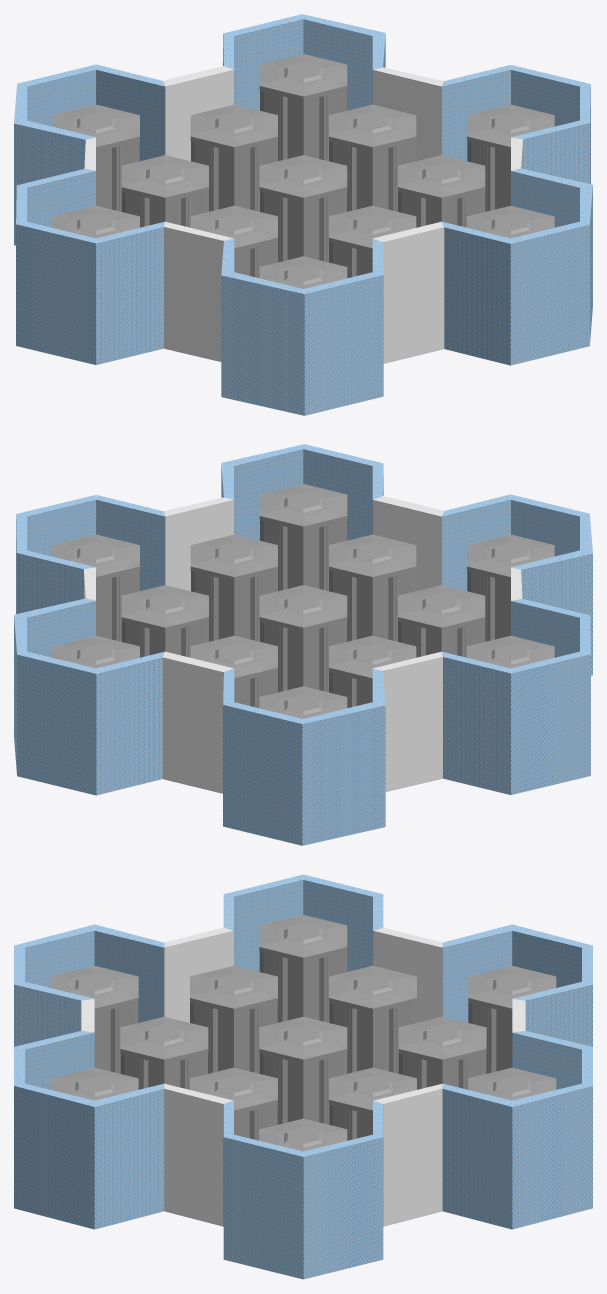
Rendered from zentai_rokkaku_goudou.fbx.
3 renders of one model, top to bottom at view 1: azimuth 30°, elevation 25°; view 2: azimuth 150°, elevation 25°; view 3: azimuth 270°, elevation 25°, orthographic.
Parts seen in each view (by area): view 1: zentai, A (×13), B1 (×3), B6 (×3); view 2: zentai, A (×13), B4 (×3), B5 (×3); view 3: zentai, A (×13), B3 (×4), B2 (×3).
Boxes of the visible parts, x1,y1,x2,y2 form: zentai: (14, 14, 592, 415); A (×13): (52, 54, 554, 288); B1 (×3): (319, 95, 396, 261); B6 (×3): (210, 95, 287, 261); zentai: (14, 444, 592, 845); A (×13): (52, 484, 554, 718); B4 (×3): (210, 525, 287, 691); B5 (×3): (319, 525, 396, 691); zentai: (14, 874, 592, 1279); A (×13): (50, 915, 556, 1151); B3 (×4): (110, 956, 327, 1124); B2 (×3): (279, 956, 496, 1124).
Bounding box in the file's own units: 173 × 35 × 150.
